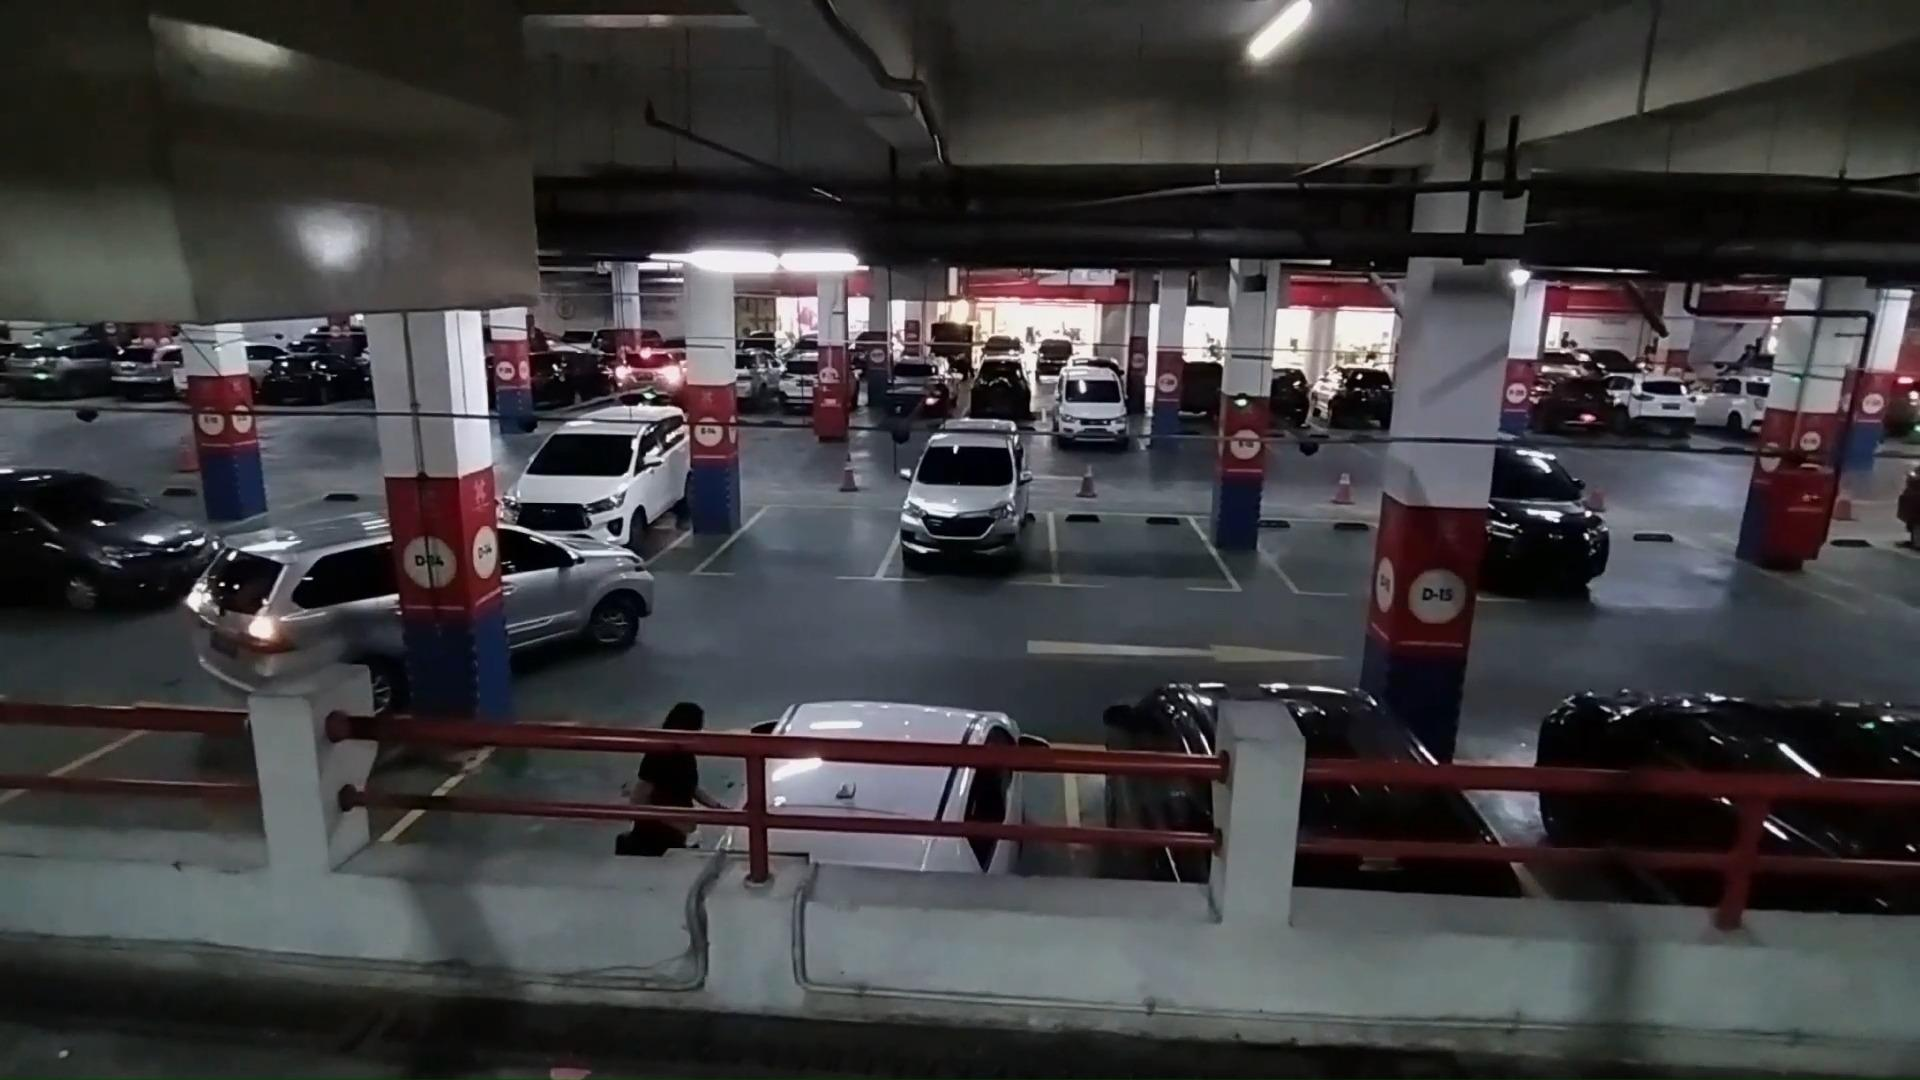empty: (1045, 494, 1233, 592), (718, 497, 890, 582), (1259, 509, 1386, 600)
occupied: (897, 451, 1055, 585)
